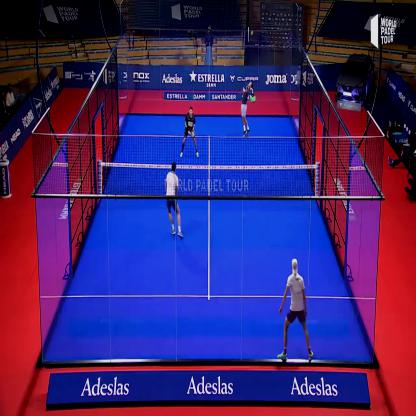ball: (248, 27, 257, 43)
